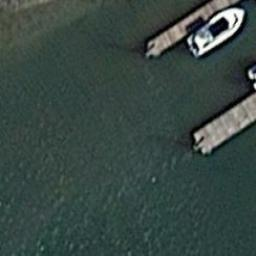boat: (184, 7, 244, 62)
